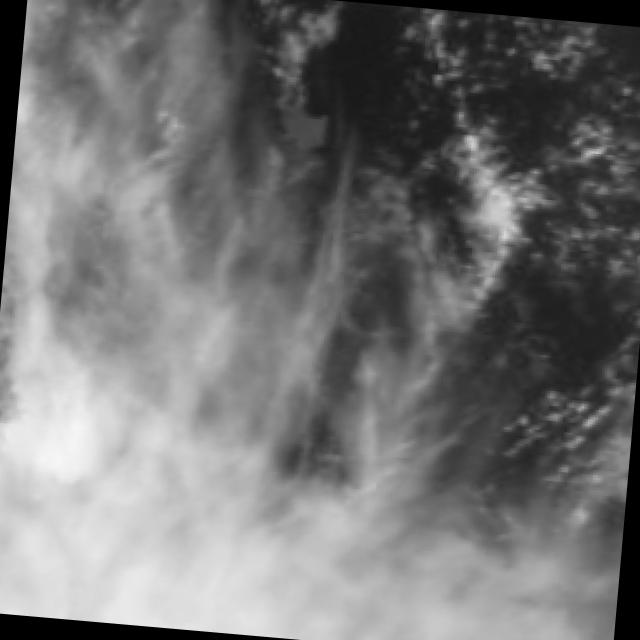CB: (0, 463, 263, 635)
